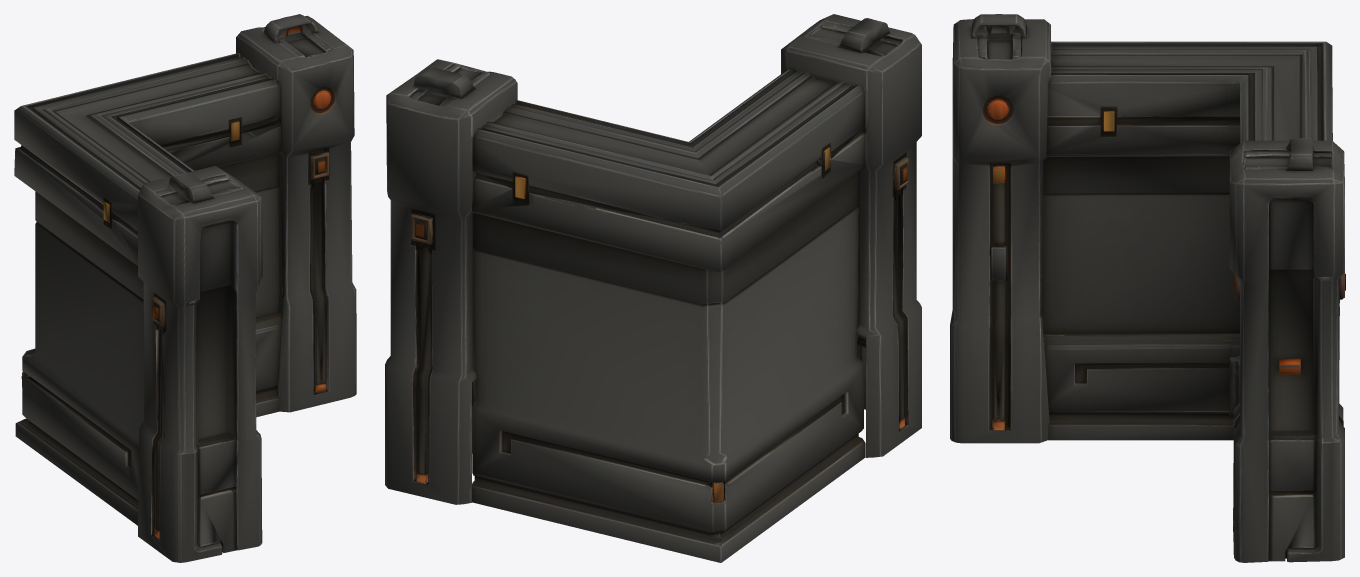
File: selected.glb
3 views of the same model, side by side, from view 1: azimuth 30°, elevation 25°; view 2: azimuth 150°, elevation 25°; view 3: azimuth 270°, elevation 25° (orthographic). The views are drawn at different scales.
Parts seen in each view (by area): view 1: tripo_node_fe3ec5bc-9e60-4500-b9b5-89cfbb9fc3de; view 2: tripo_node_fe3ec5bc-9e60-4500-b9b5-89cfbb9fc3de; view 3: tripo_node_fe3ec5bc-9e60-4500-b9b5-89cfbb9fc3de.
Part boxes in pixels (box(x1,y1,x2,y2)): tripo_node_fe3ec5bc-9e60-4500-b9b5-89cfbb9fc3de: box(14, 14, 356, 562); tripo_node_fe3ec5bc-9e60-4500-b9b5-89cfbb9fc3de: box(385, 14, 921, 562); tripo_node_fe3ec5bc-9e60-4500-b9b5-89cfbb9fc3de: box(950, 14, 1345, 562).
Size of the model in its own units: 0.9043 by 0.998 by 0.9043.
1 material, 1 textured.
